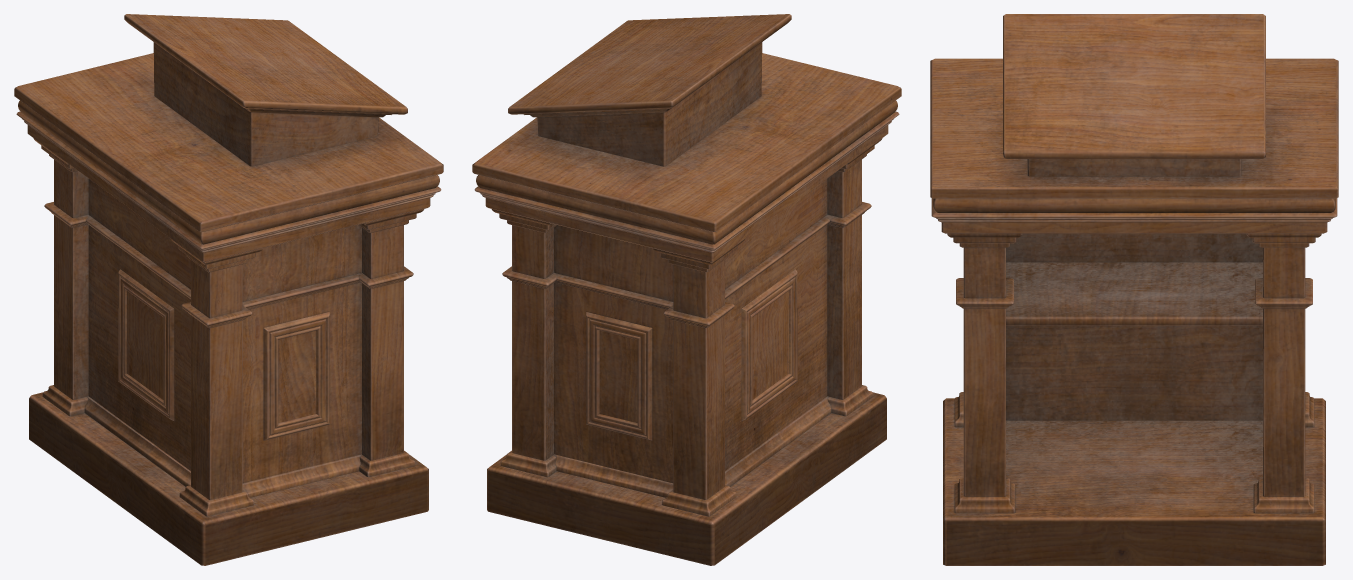
The model's file is SM_ChurchAltar.fbx.
3 renders of one model, left to right at view 1: azimuth 30°, elevation 25°; view 2: azimuth 150°, elevation 25°; view 3: azimuth 270°, elevation 25°, orthographic. The views are drawn at different scales.
Parts seen in each view (by area): view 1: SM_ChurchAltar_LOD0; view 2: SM_ChurchAltar_LOD0; view 3: SM_ChurchAltar_LOD0.
Boxes of the visible parts, bbox=[...] form: SM_ChurchAltar_LOD0: bbox=[14, 14, 443, 565]; SM_ChurchAltar_LOD0: bbox=[472, 14, 901, 565]; SM_ChurchAltar_LOD0: bbox=[930, 14, 1338, 565].
Size of the model in its own units: 80.45 by 107 by 135.
1 material, 1 textured.
